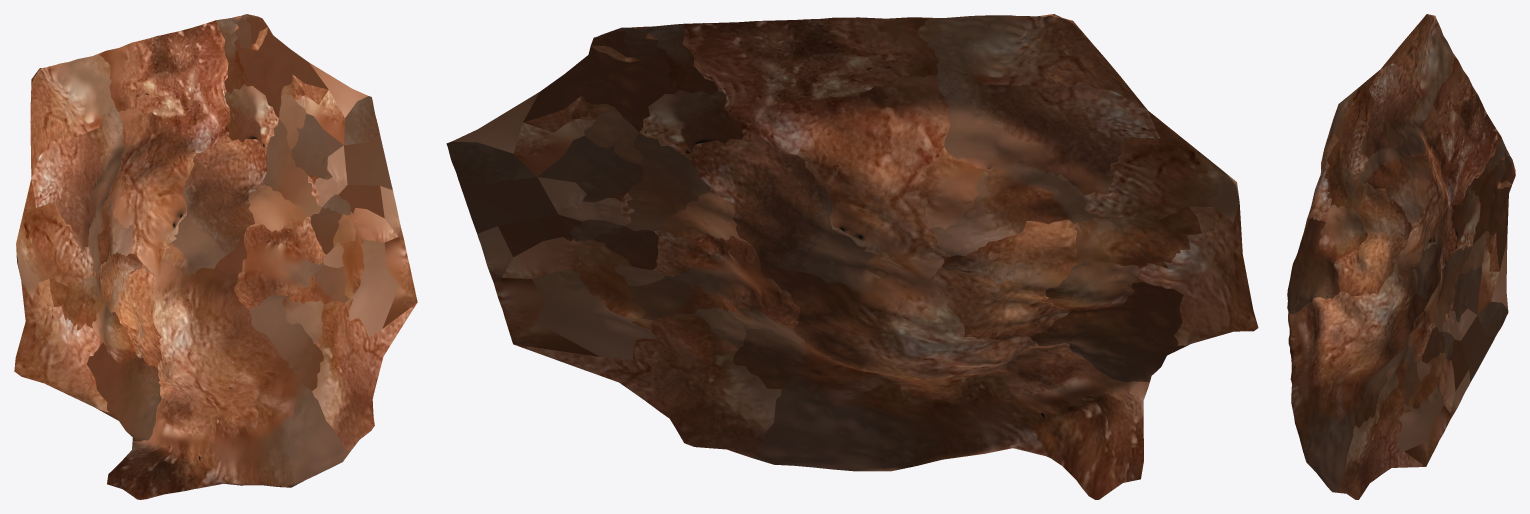
File: baked_mesh.obj
The picture shows the model from 3 angles, left to right: view 1: azimuth 30°, elevation 25°; view 2: azimuth 150°, elevation 25°; view 3: azimuth 270°, elevation 25°; orthographic projection. The views are drawn at different scales.
Parts seen in each view (by area): view 1: g0; view 2: g0; view 3: g0.
Part boxes in pixels (x1,y1,x2,y2): g0: [14, 14, 417, 499]; g0: [446, 14, 1258, 499]; g0: [1287, 14, 1515, 499].
Size of the model in its own units: 1.53 by 1.31 by 0.735.
